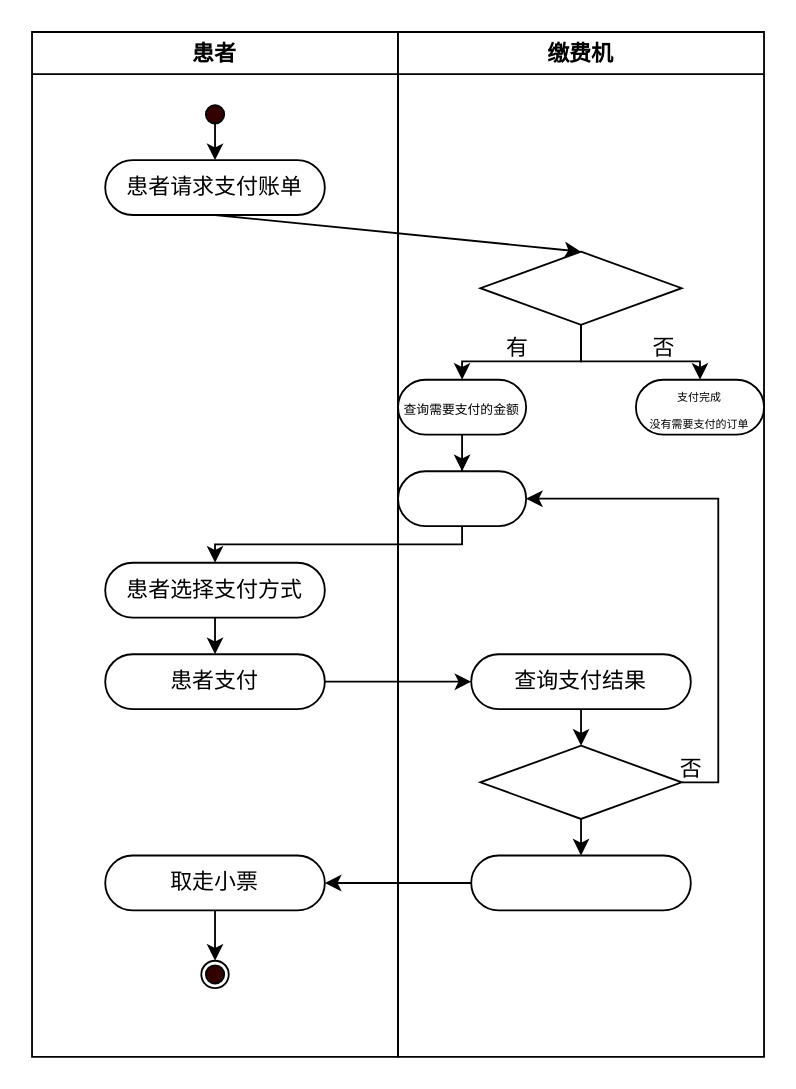
Some shapes in this 796 by 1089 pixel diagram are drawn without their labels. The centre of each missing label's shape, as x and y in pixels:
打印小票: (x=580, y=882)
是否支付成功: (x=580, y=781)
查询可用的支付方式: (x=461, y=497)
账单是否存在: (x=580, y=287)
